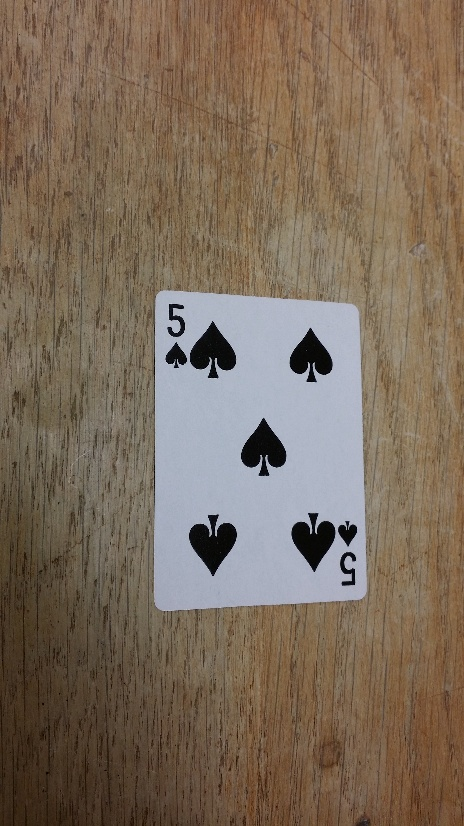S5: (162, 296, 190, 373), (335, 517, 364, 589)
